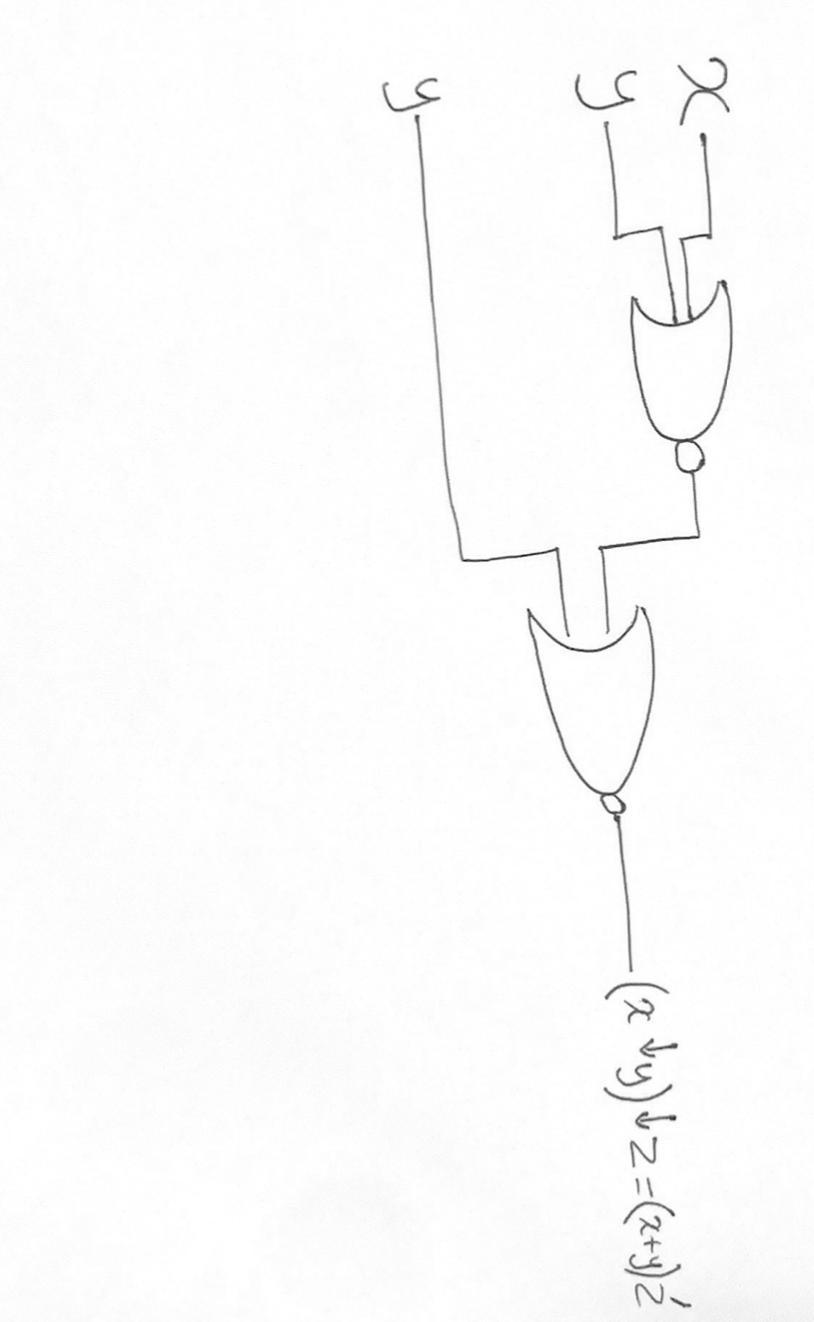NOR: (500, 592, 717, 831), (608, 271, 773, 483)
